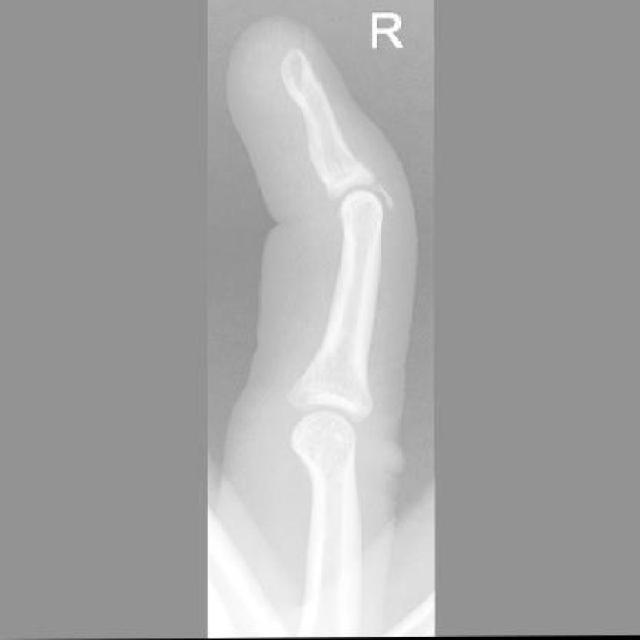Fracture: (359, 160, 399, 214)
